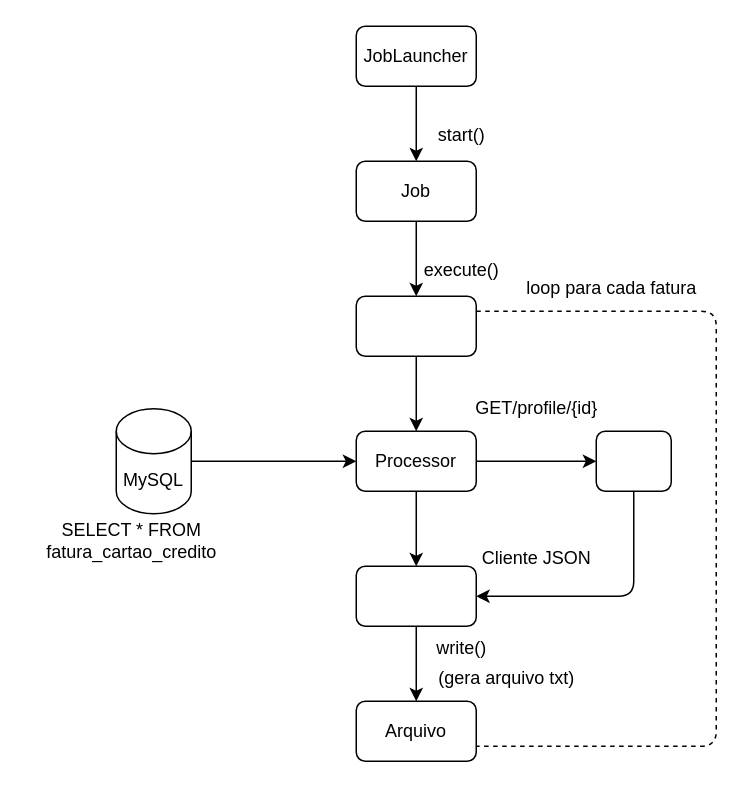
Some shapes in this 744 by 788 pixel diagram are drawn without their labels. The shapes that lost their labels are listed below. From the top down, each one's centre as x and y in pixels, then its label:
At pixel 415 325: "Reader".
At pixel 633 460: "API externa JSON".
At pixel 415 595: "Writer".
